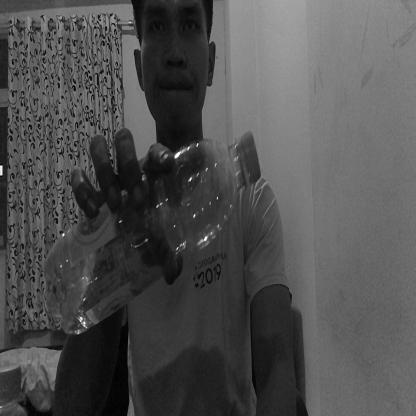plastic_bottles: (44, 130, 262, 333)
